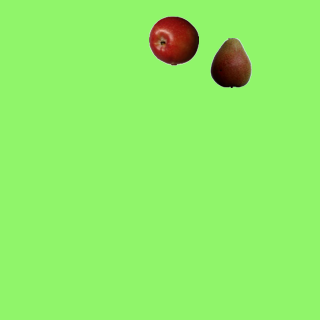Apple Braeburn: (148, 15, 198, 65)
Pear Forelle: (205, 37, 255, 87)
